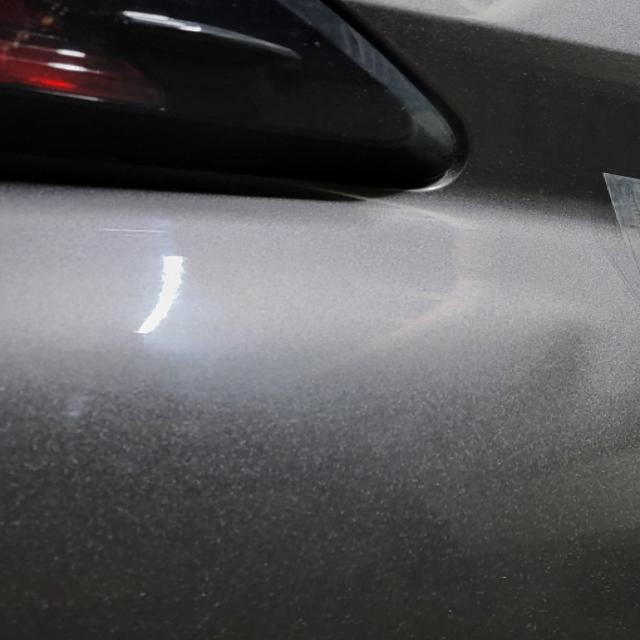dents: (495, 309, 640, 451)
